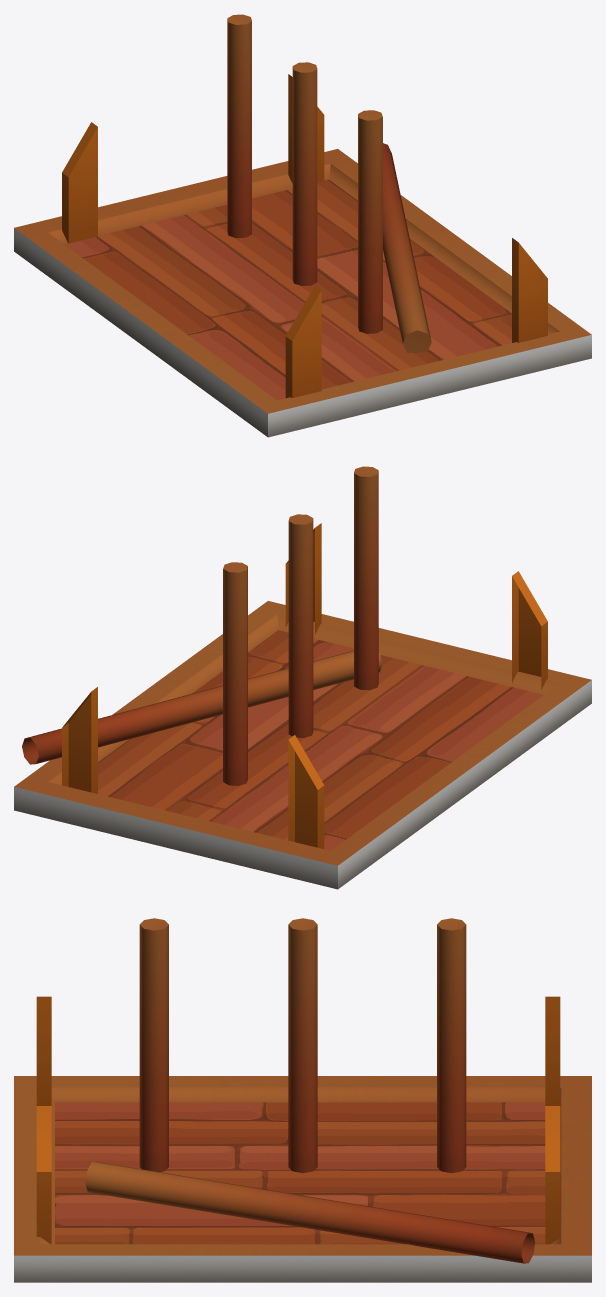
File: VikingHouse_04_M.fbx
3 renders of one model, top to bottom at view 1: azimuth 30°, elevation 25°; view 2: azimuth 150°, elevation 25°; view 3: azimuth 270°, elevation 25°, orthographic. The views are drawn at different scales.
Parts seen in each view (by area): view 1: VikingHouse_04_M; view 2: VikingHouse_04_M; view 3: VikingHouse_04_M.
Boxes of the visible parts, bbox=[...] form: VikingHouse_04_M: bbox=[14, 14, 591, 437]; VikingHouse_04_M: bbox=[14, 466, 591, 889]; VikingHouse_04_M: bbox=[14, 918, 591, 1282].
Size of the model in its own units: 383 by 250 by 486.
